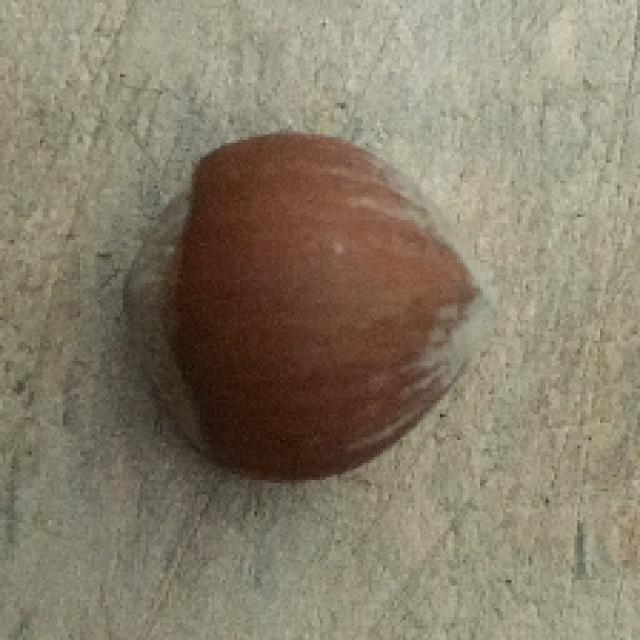qualityHazelnut: (110, 126, 496, 480)
